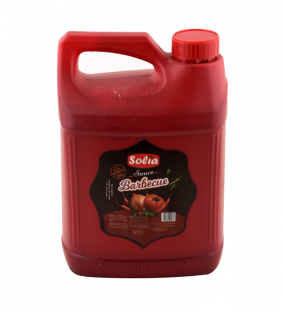SOLIA: (56, 28, 228, 279)
